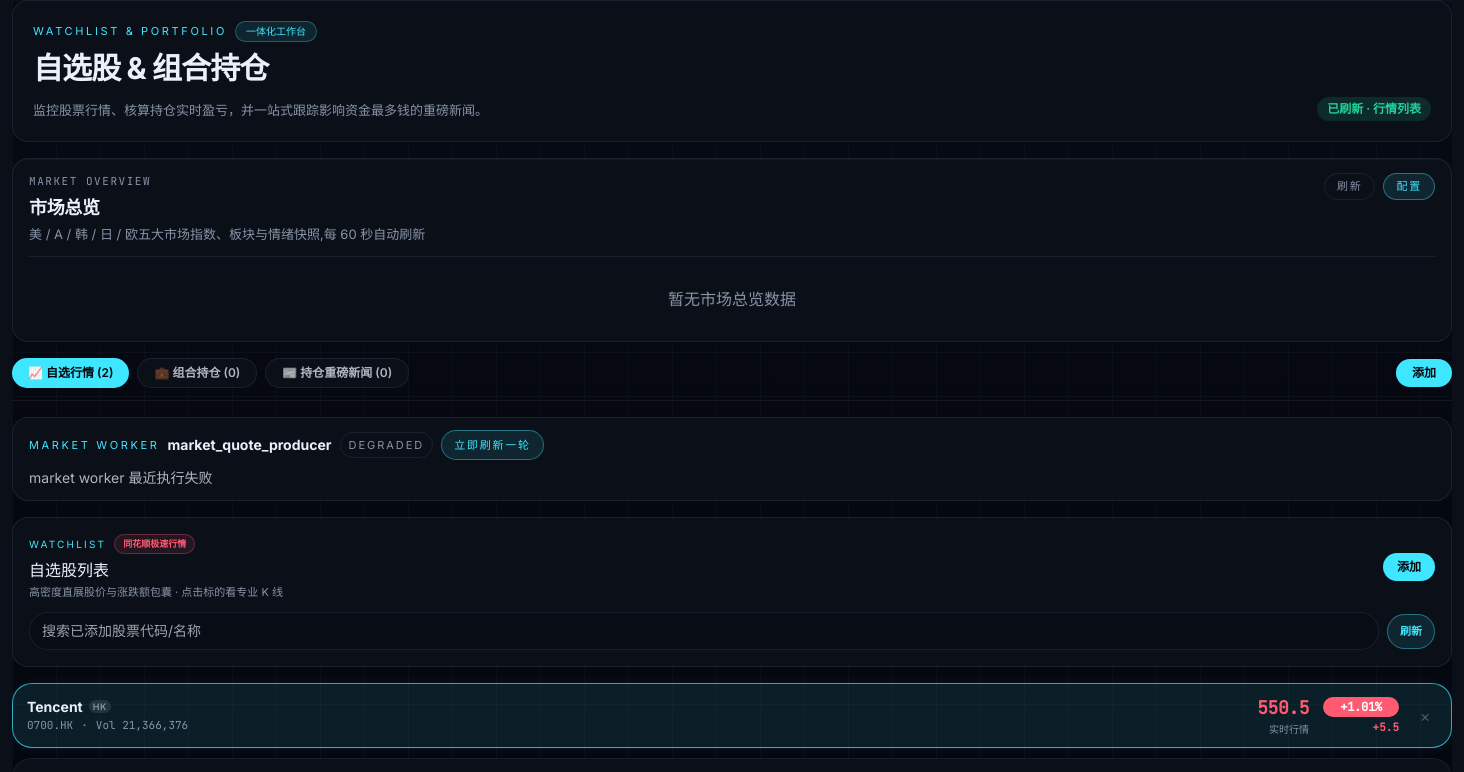
WatchlistView › keeps refresh errors inside the view state instead of leaking promise rejections
The image size is (1464, 772).
Click the button "立即刷新一轮" at (493, 446), box x1=441 y1=430 x2=544 y2=460
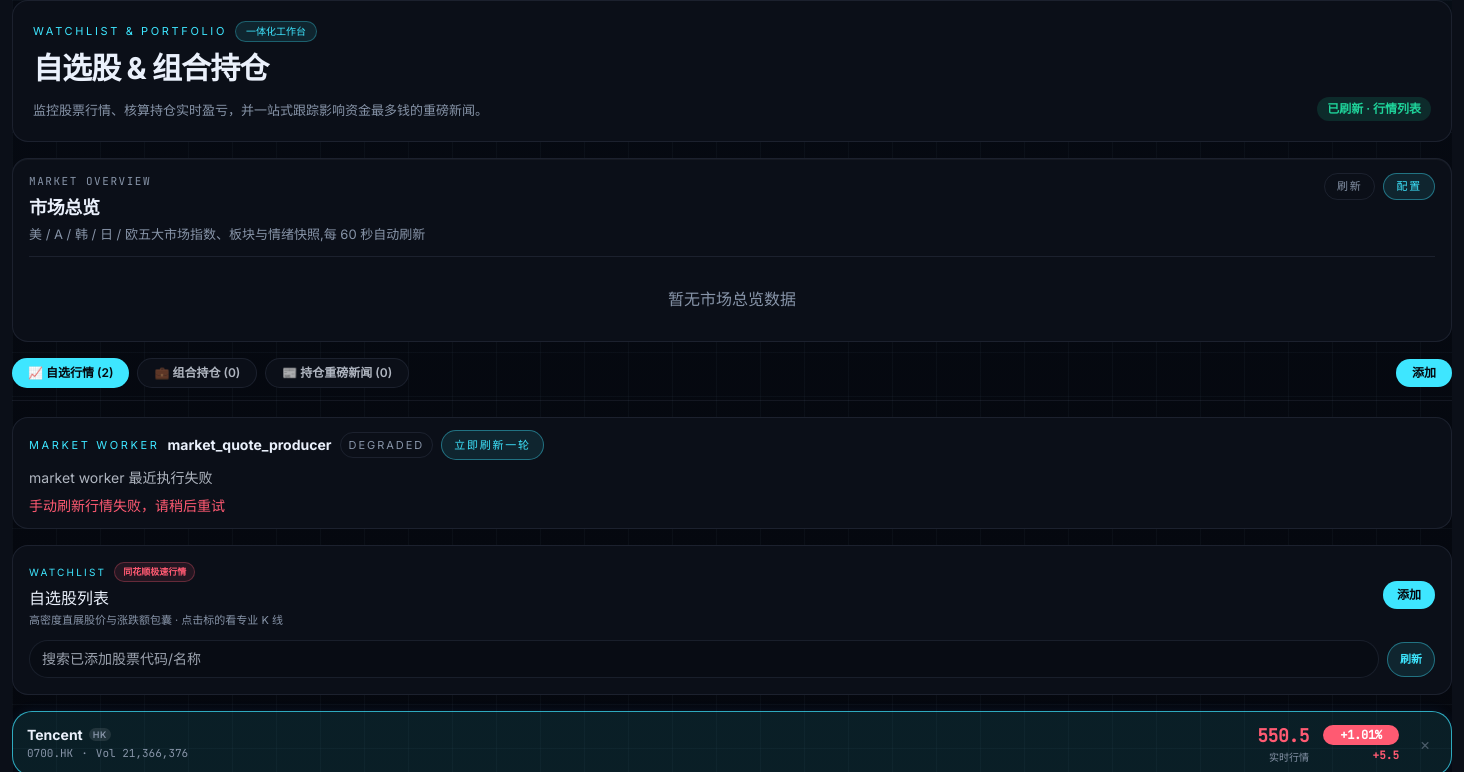
Result: the text "手动刷新行情失败，请稍后重试" is shown at x1=29 y1=498 x2=225 y2=514
